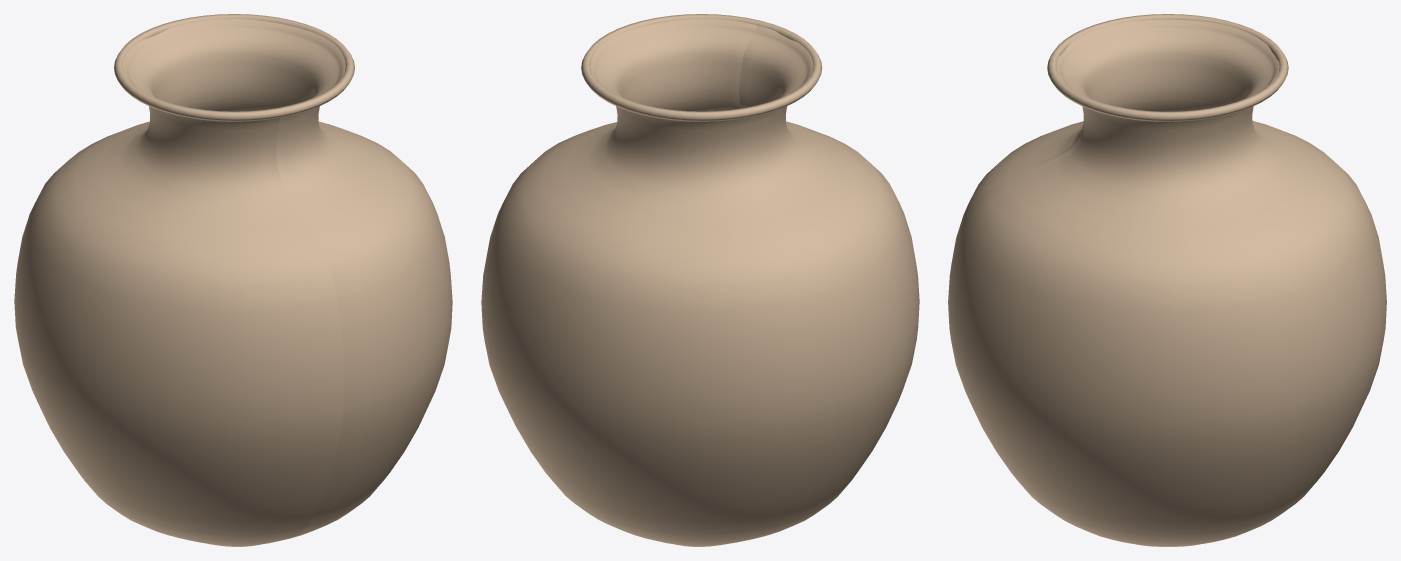
Rendered from round-storage-jar-v2.glb.
3 renders of one model, left to right at view 1: azimuth 30°, elevation 25°; view 2: azimuth 150°, elevation 25°; view 3: azimuth 270°, elevation 25°, orthographic.
Visible parts, largest first — view 1: Hand thrown body with inner wall, Thrown cordon; view 2: Hand thrown body with inner wall, Thrown cordon; view 3: Hand thrown body with inner wall, Thrown cordon.
Part boxes in pixels (<box>): Hand thrown body with inner wall: <box>14,19,452,546</box>; Thrown cordon: <box>114,14,354,121</box>; Hand thrown body with inner wall: <box>481,18,919,546</box>; Thrown cordon: <box>581,14,822,121</box>; Hand thrown body with inner wall: <box>948,19,1386,546</box>; Thrown cordon: <box>1047,14,1288,121</box>.
Bounding box in the file's own units: 0.607 × 0.6968 × 0.607.
